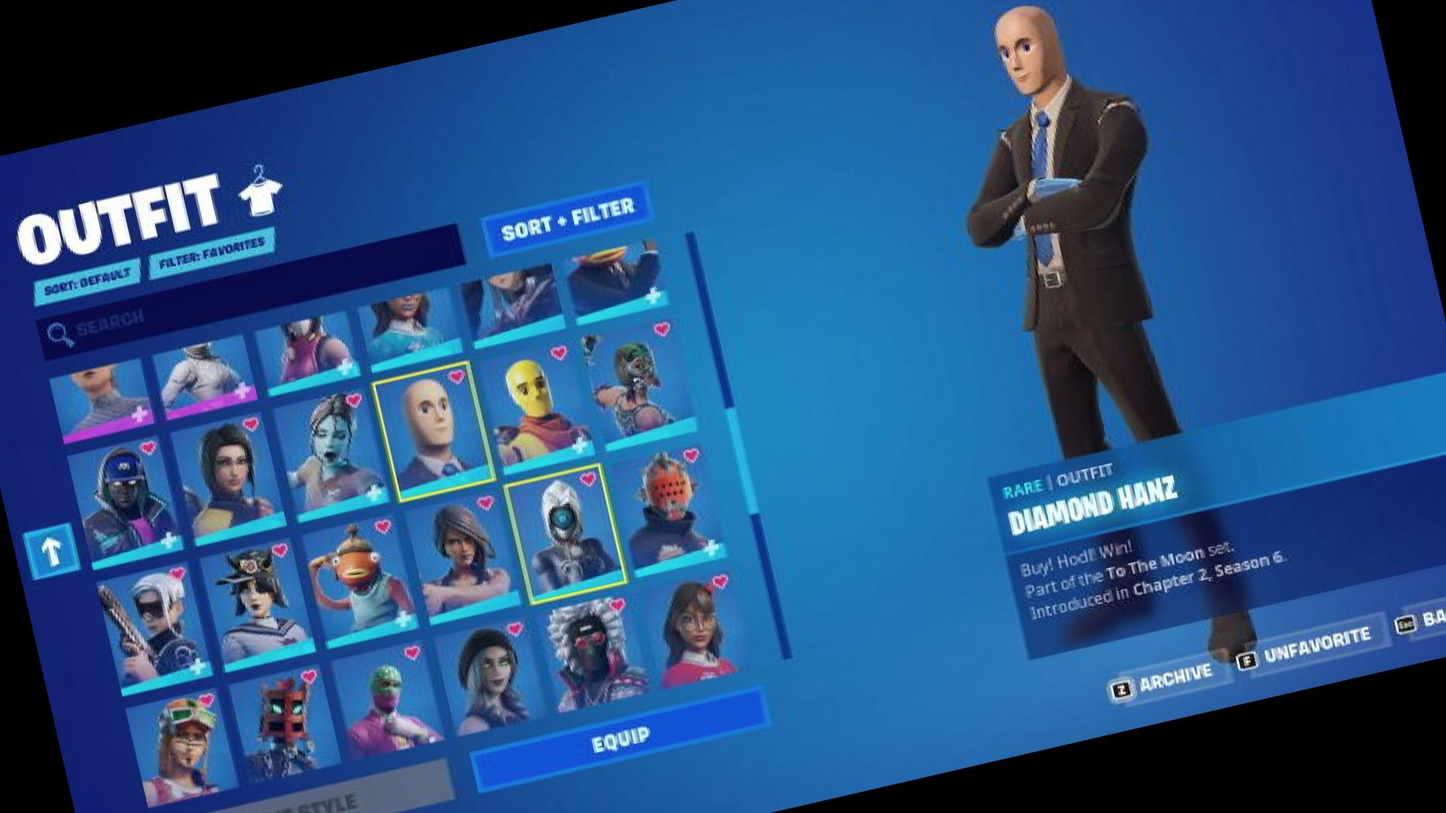player: (884, 0, 1336, 711)
